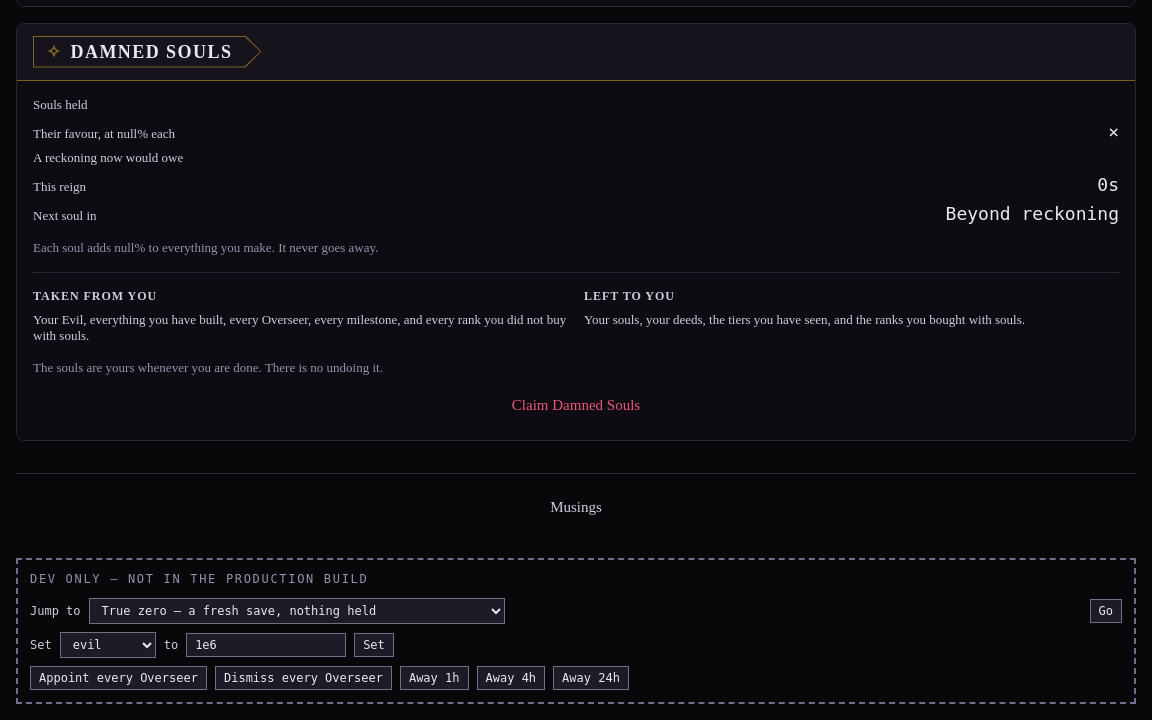
Test: the deck and the records › opens the ledger when the footer button is pressed
(page scrolled)
Click the button "Musings".
click(576, 508)  # box left=533, top=490, right=619, bottom=526
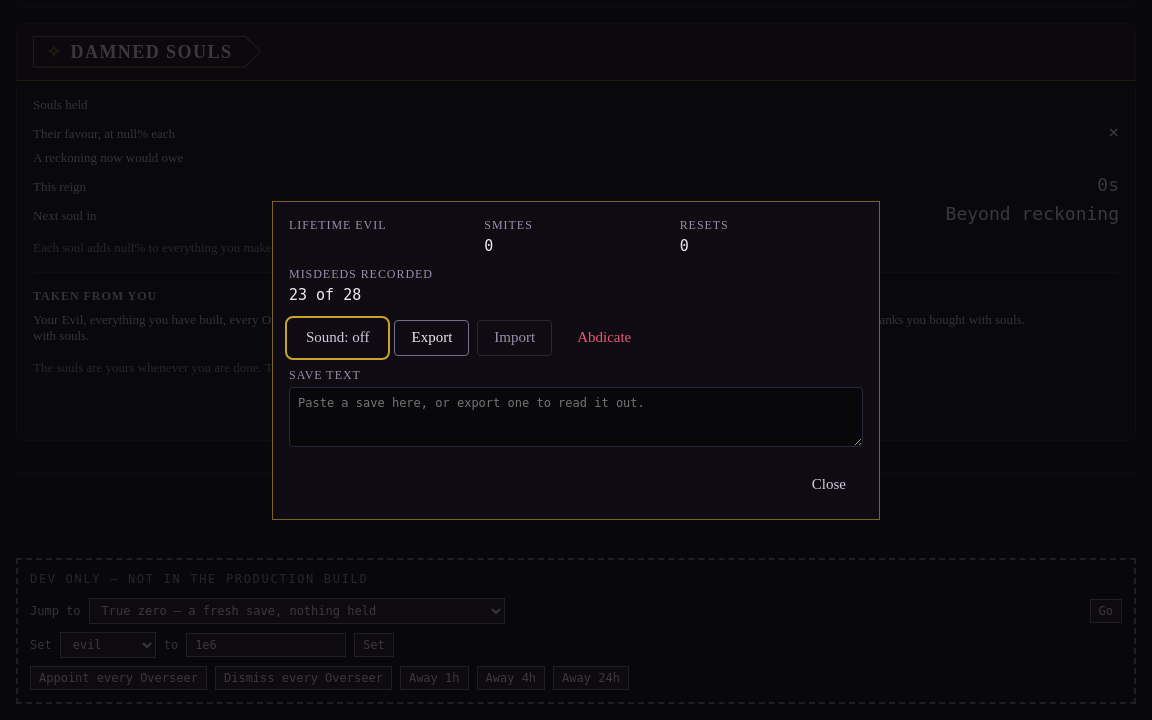
Check: the dialog is shown, box left=272, top=200, right=880, bottom=520
